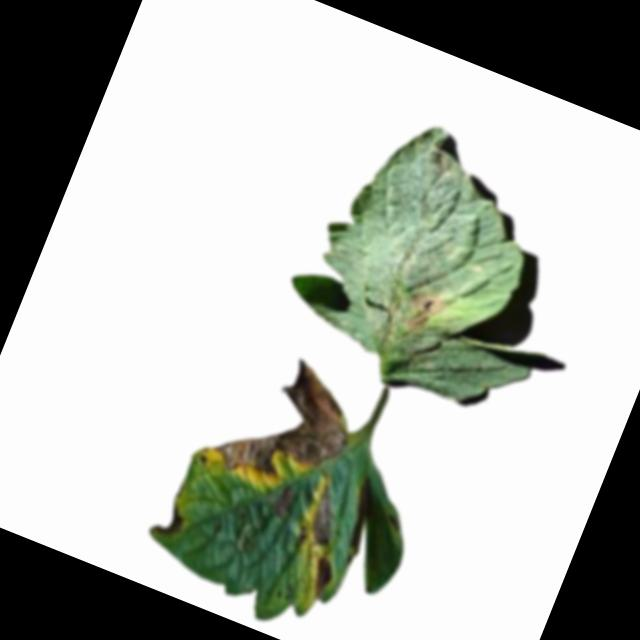Early_blight: (206, 339, 364, 505), (302, 483, 349, 549), (402, 288, 451, 341), (303, 555, 339, 603), (149, 502, 189, 545), (266, 484, 298, 528)
